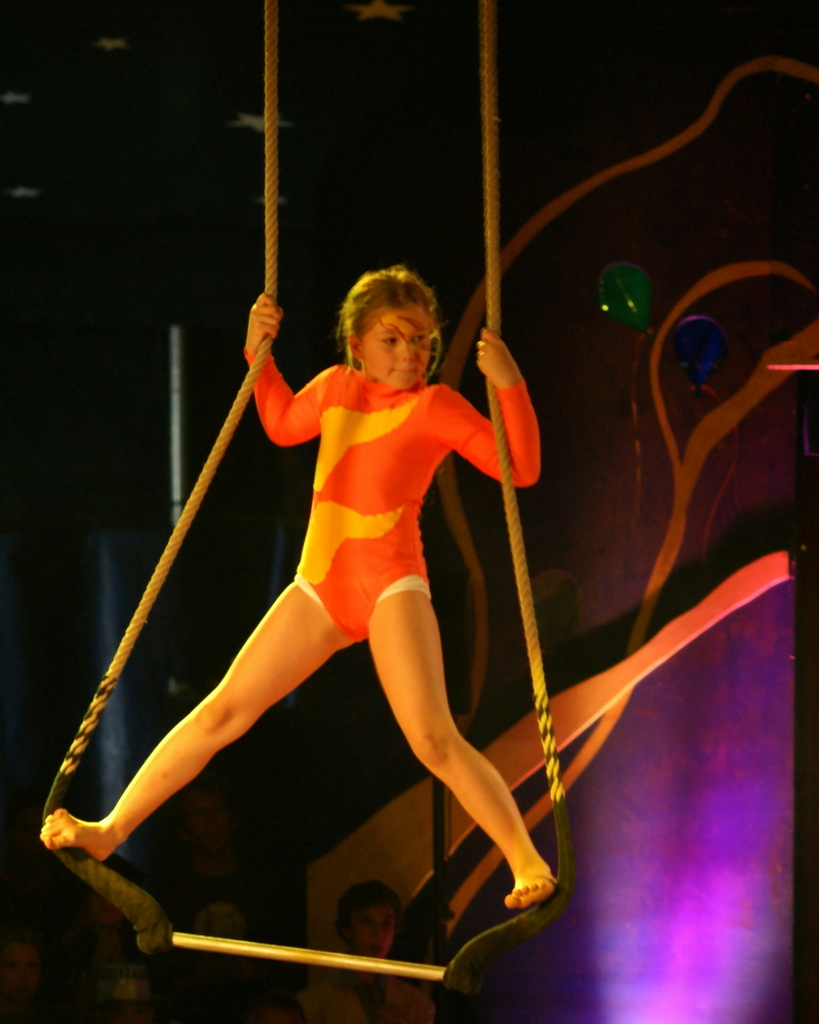Person: (38, 262, 556, 908)
